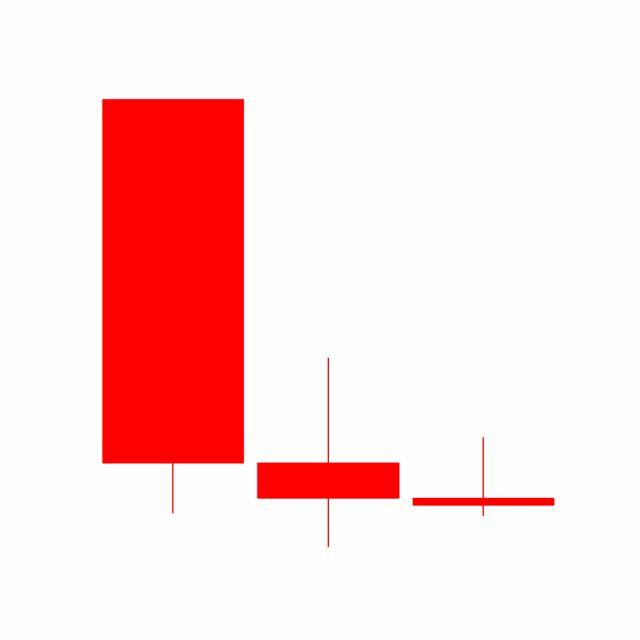Spinning Top: (406, 436, 562, 518)
